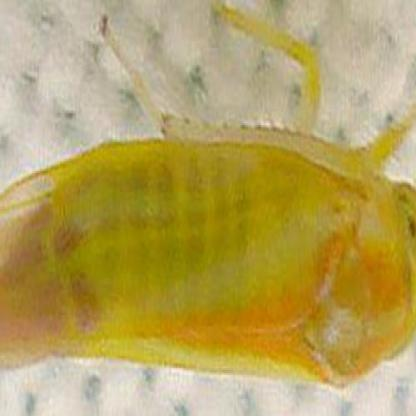green-leafhopper: (0, 106, 414, 387)
